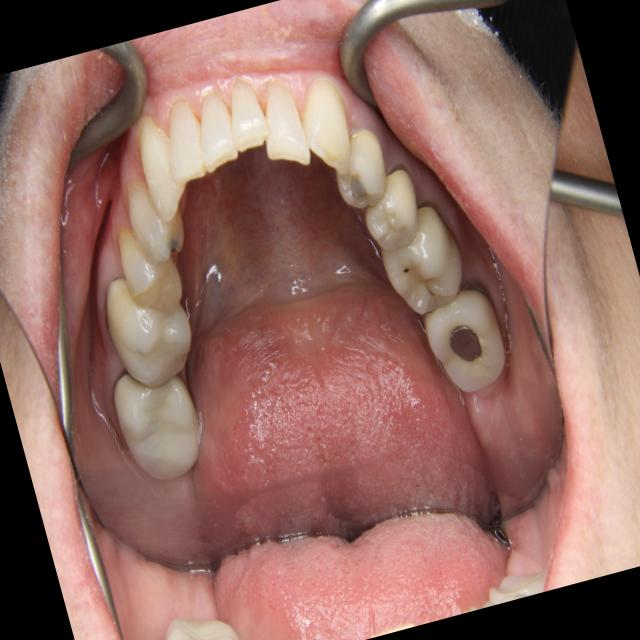tooth: (94, 350, 222, 501), (362, 185, 486, 338), (88, 252, 209, 403), (405, 266, 521, 411), (280, 49, 369, 195), (337, 145, 439, 268), (102, 207, 197, 332), (318, 116, 404, 229), (125, 102, 199, 233), (177, 71, 256, 193), (115, 168, 199, 275), (210, 58, 284, 176), (247, 67, 324, 180), (151, 93, 219, 200)
